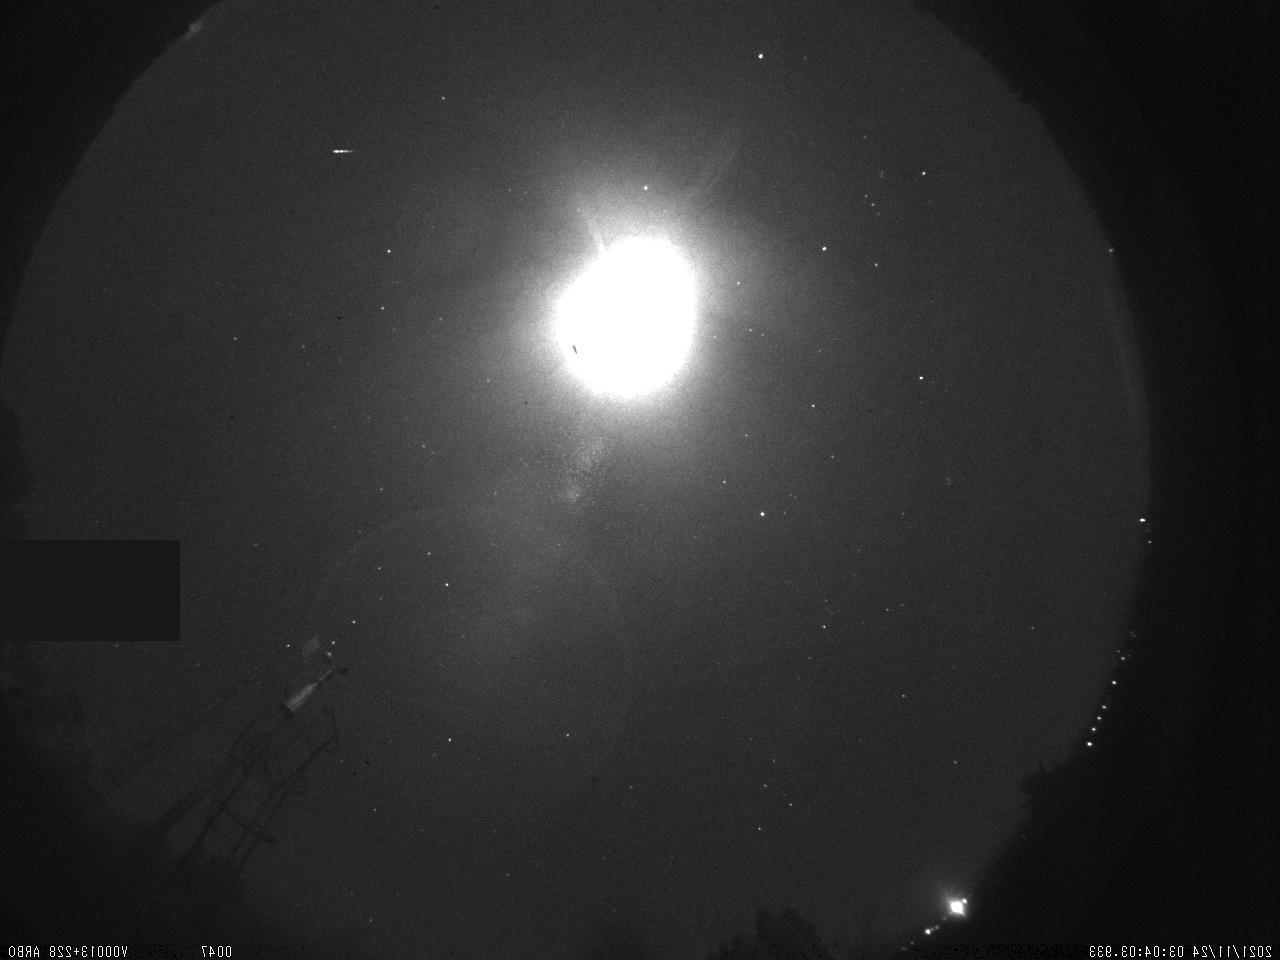meteor: (329, 138, 361, 166)
